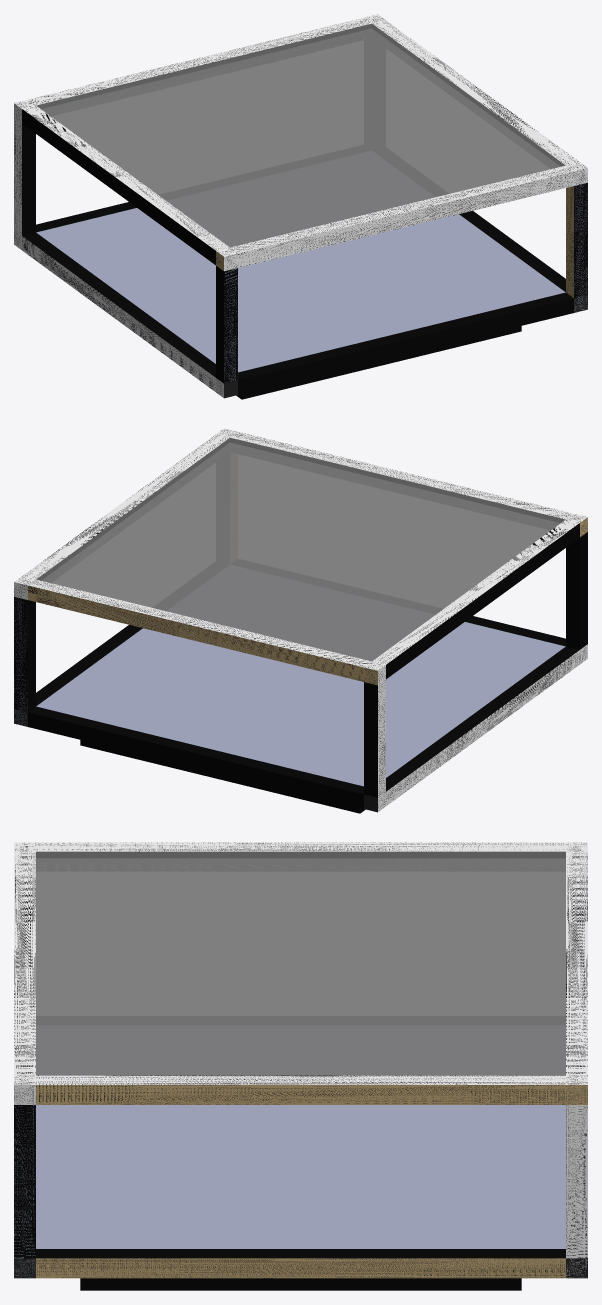
The model's file is table2.dae.
The picture shows the model from 3 angles, top to bottom: view 1: azimuth 30°, elevation 25°; view 2: azimuth 150°, elevation 25°; view 3: azimuth 270°, elevation 25°; orthographic projection. The views are drawn at different scales.
Visible parts, largest first — view 1: skpOdRaT0 (×16); view 2: skpOdRaT0 (×14); view 3: skpOdRaT0 (×14).
Part boxes in pixels (<box>): skpOdRaT0 (×16): <box>14,17,587,399</box>; skpOdRaT0 (×14): <box>14,431,587,813</box>; skpOdRaT0 (×14): <box>14,842,587,1290</box>.
Bounding box in the file's own units: 39 × 39 × 17.5.
